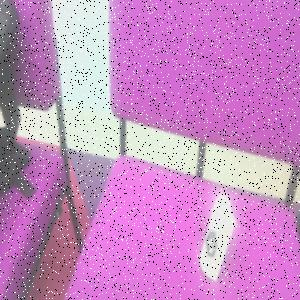Cup: (200, 193, 238, 284)
